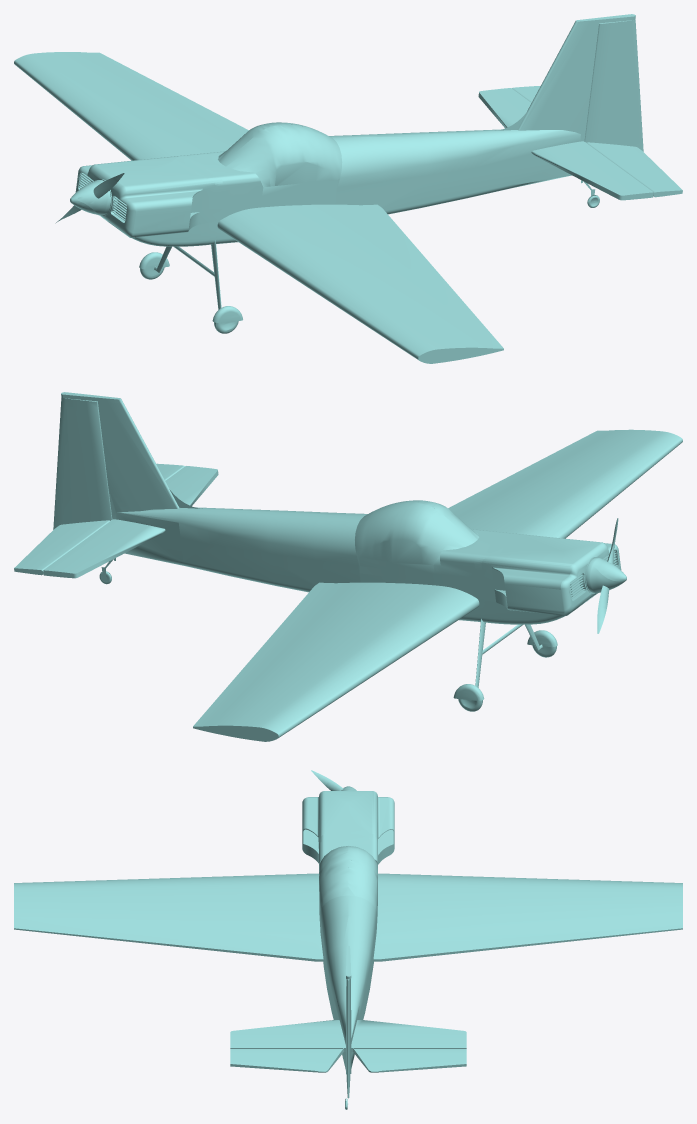
The model's file is airPlane.gltf.
The picture shows the model from 3 angles, top to bottom: view 1: azimuth 30°, elevation 25°; view 2: azimuth 150°, elevation 25°; view 3: azimuth 270°, elevation 25°; orthographic projection. The views are drawn at different scales.
Visible parts, largest first — view 1: airplane.001; view 2: airplane.001; view 3: airplane.001.
Part boxes in pixels (box(x1,y1,x2,y2)): airplane.001: box(14, 14, 682, 363); airplane.001: box(14, 392, 682, 741); airplane.001: box(14, 770, 682, 1109).
Size of the model in its own units: 118 by 37.37 by 144.
